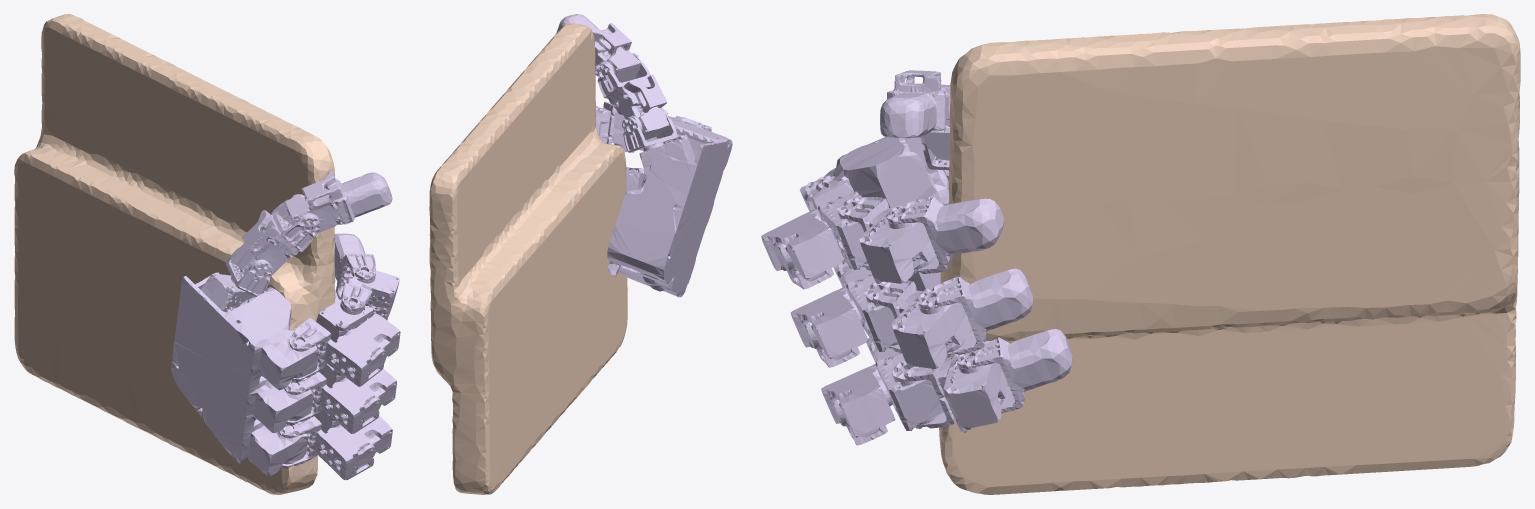
The model's file is 631edca31003c7-final.glb.
3 renders of one model, left to right at view 1: azimuth 30°, elevation 25°; view 2: azimuth 150°, elevation 25°; view 3: azimuth 270°, elevation 25°, orthographic. The views are drawn at different scales.
Visible parts, largest first — view 1: world, LEAP_hand; view 2: world, LEAP_hand; view 3: world, LEAP_hand.
Boxes of the visible parts, x1,y1,x2,y2 form: world: [14, 14, 335, 494]; LEAP_hand: [171, 171, 400, 480]; world: [429, 23, 627, 494]; LEAP_hand: [556, 14, 732, 297]; world: [939, 14, 1520, 494]; LEAP_hand: [761, 70, 1072, 445].
Size of the model in its own units: 0.1542 by 0.2661 by 0.3978.
